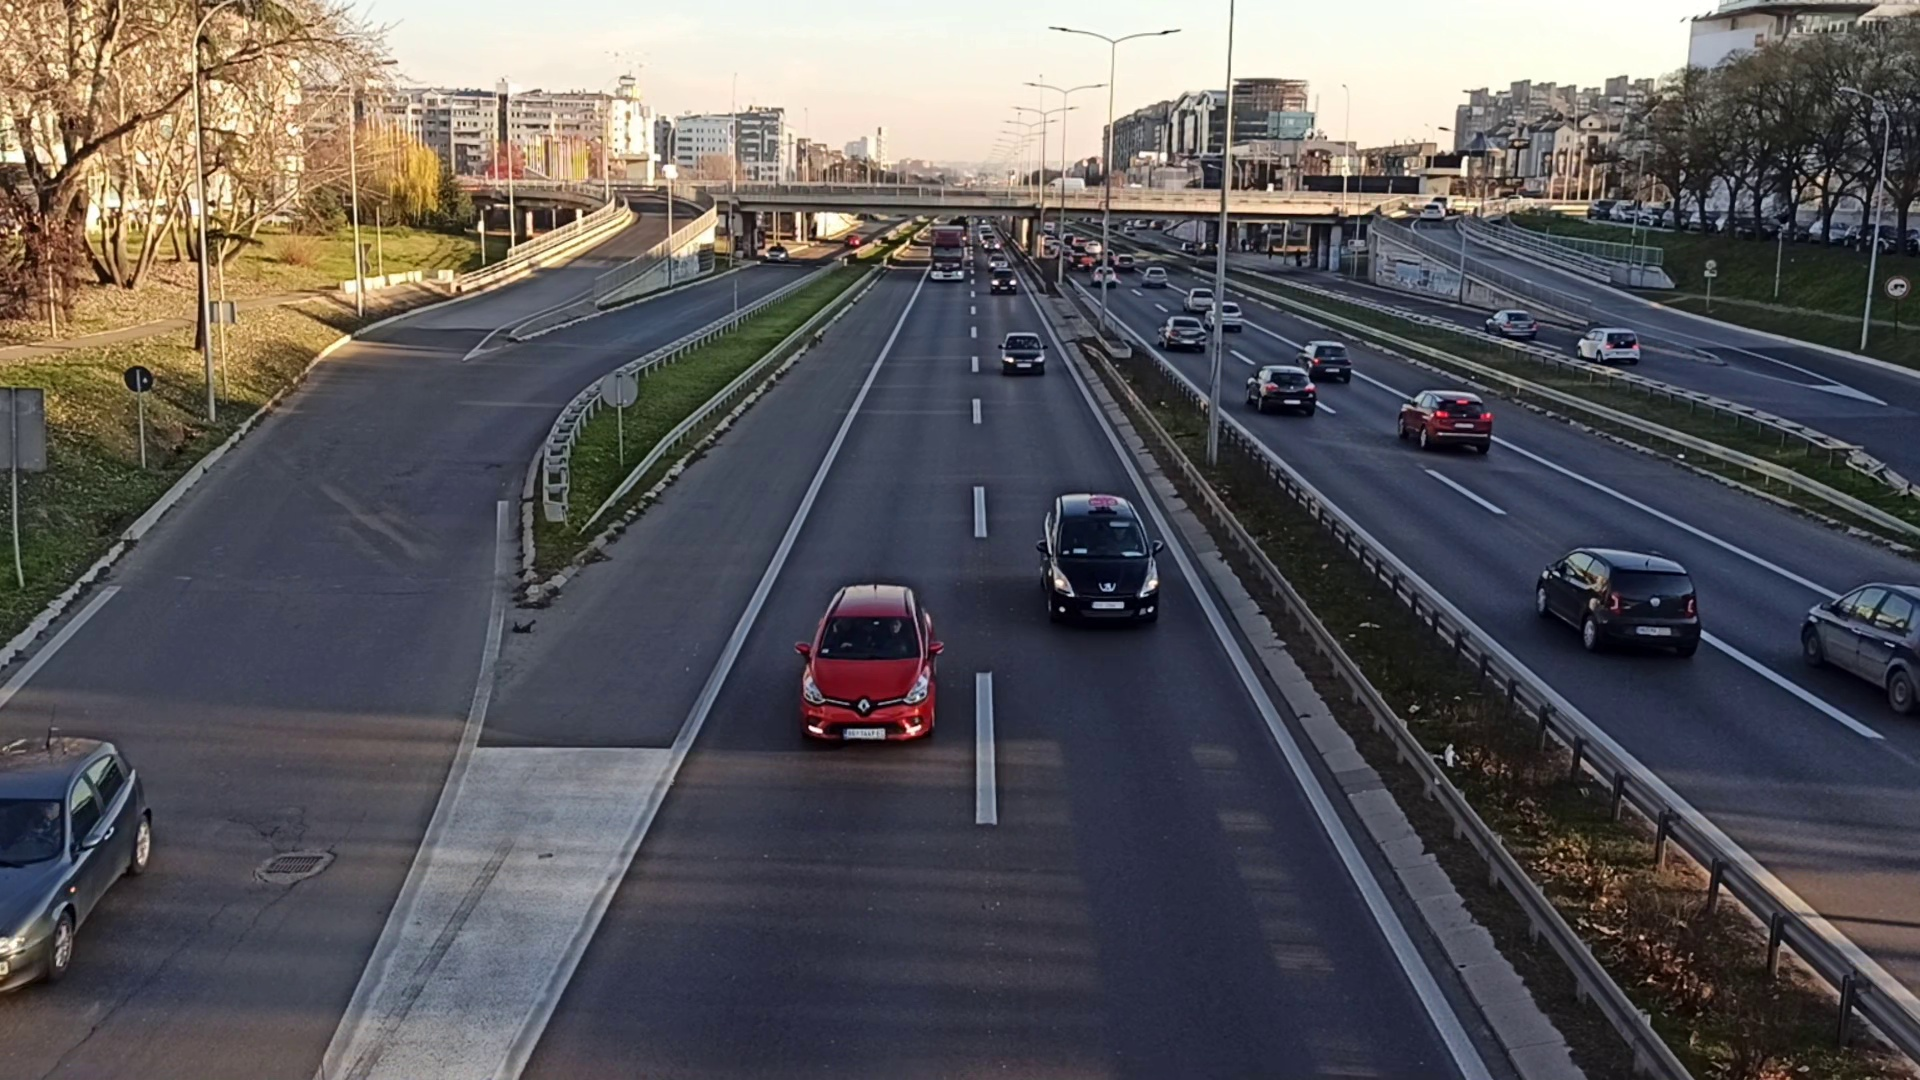car: (796, 583, 939, 746), (1534, 545, 1701, 669), (1038, 493, 1162, 633), (1400, 389, 1490, 454), (1246, 363, 1315, 419), (1575, 326, 1640, 364), (1298, 339, 1352, 384), (1000, 332, 1048, 375), (1156, 316, 1204, 353), (1485, 307, 1535, 342), (990, 270, 1015, 294)
truck: (930, 224, 965, 284)
